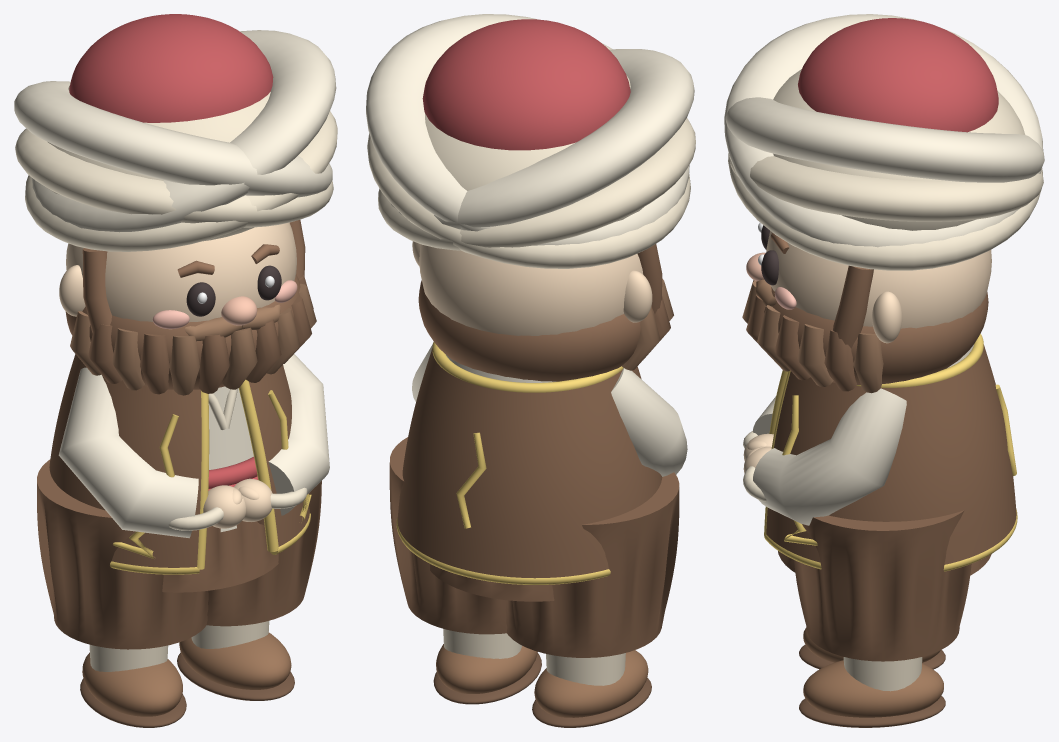
Rendered from orta_detay_osmanli_adam_karakter_v2.glb.
3 views of the same model, side by side, from view 1: azimuth 30°, elevation 25°; view 2: azimuth 150°, elevation 25°; view 3: azimuth 270°, elevation 25° (orthographic).
Parts seen in each view (by area): view 1: Turban_BurgundyCap, Shalwar_Leg_Left, Turban_WrapBand_1, FullWrap_Embroidered_Vest, Turban_WrapBand_0, Head, Tunic_Sleeve_Left, Turban_WrapBand_3, Turban_WrapBand_2, Shalwar_Leg_Right, Tunic_Sleeve_Right, Shalwar_Hip (+37 smaller); view 2: FullWrap_Embroidered_Vest, Turban_BurgundyCap, Shalwar_Leg_Left, Turban_WrapBand_1, Turban_WrapBand_0, Head, Beard_Core, Turban_WrapBand_3, Turban_WrapBand_2, Shalwar_Leg_Right, Tunic_Sleeve_Left, Shoe_Upper_Left (+13 smaller); view 3: FullWrap_Embroidered_Vest, Shalwar_Leg_Right, Turban_BurgundyCap, Turban_WrapBand_0, Turban_WrapBand_1, Tunic_Sleeve_Right, Turban_WrapBand_2, Head, Turban_WrapBand_3, Beard_Core, Shoe_Upper_Right, Turban_InnerCore (+16 smaller).
Boxes of the visible parts, x1=… form: Turban_BurgundyCap: x1=69, y1=14, x2=273, y2=122; Shalwar_Leg_Left: x1=37, y1=459, x2=208, y2=649; Turban_WrapBand_1: x1=14, y1=81, x2=332, y2=197; FullWrap_Embroidered_Vest: x1=49, y1=354, x2=309, y2=567; Turban_WrapBand_0: x1=31, y1=30, x2=336, y2=232; Head: x1=66, y1=222, x2=296, y2=322; Tunic_Sleeve_Left: x1=58, y1=367, x2=198, y2=538; Turban_WrapBand_3: x1=15, y1=128, x2=333, y2=227; Turban_WrapBand_2: x1=25, y1=111, x2=337, y2=251; Shalwar_Leg_Right: x1=206, y1=481, x2=321, y2=626; Tunic_Sleeve_Right: x1=268, y1=354, x2=329, y2=515; Shalwar_Hip: x1=162, y1=521, x2=278, y2=592; FullWrap_Embroidered_Vest: x1=397, y1=348, x2=662, y2=578; Turban_BurgundyCap: x1=422, y1=19, x2=630, y2=150; Shalwar_Leg_Left: x1=505, y1=472, x2=679, y2=657; Turban_WrapBand_1: x1=391, y1=49, x2=694, y2=229; Turban_WrapBand_0: x1=366, y1=14, x2=689, y2=245; Head: x1=419, y1=244, x2=643, y2=335; Beard_Core: x1=418, y1=280, x2=654, y2=381; Turban_WrapBand_3: x1=378, y1=118, x2=695, y2=250; Turban_WrapBand_2: x1=367, y1=133, x2=690, y2=268; Shalwar_Leg_Right: x1=389, y1=437, x2=507, y2=634; Tunic_Sleeve_Left: x1=611, y1=368, x2=687, y2=476; Shoe_Upper_Left: x1=534, y1=650, x2=648, y2=717; FullWrap_Embroidered_Vest: x1=766, y1=344, x2=1016, y2=564; Shalwar_Leg_Right: x1=794, y1=510, x2=971, y2=661; Turban_BurgundyCap: x1=798, y1=18, x2=998, y2=132; Turban_WrapBand_0: x1=725, y1=97, x2=1044, y2=182; Turban_WrapBand_1: x1=724, y1=14, x2=1043, y2=247; Tunic_Sleeve_Right: x1=753, y1=388, x2=906, y2=525; Turban_WrapBand_2: x1=729, y1=156, x2=1043, y2=221; Head: x1=766, y1=231, x2=991, y2=328; Turban_WrapBand_3: x1=728, y1=153, x2=1042, y2=270; Beard_Core: x1=764, y1=287, x2=988, y2=384; Shoe_Upper_Right: x1=803, y1=660, x2=943, y2=717; Turban_InnerCore: x1=773, y1=69, x2=1025, y2=230.
Bounding box in the file's own units: 0.7655 × 1.72 × 0.7589.
